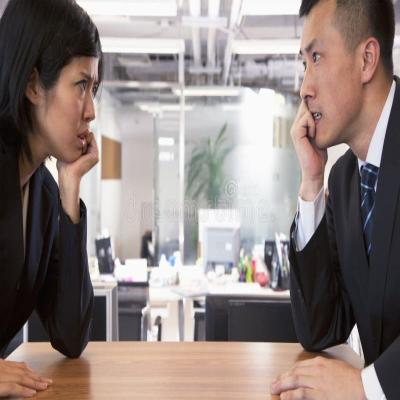angry: (294, 22, 352, 149), (52, 38, 100, 160)
